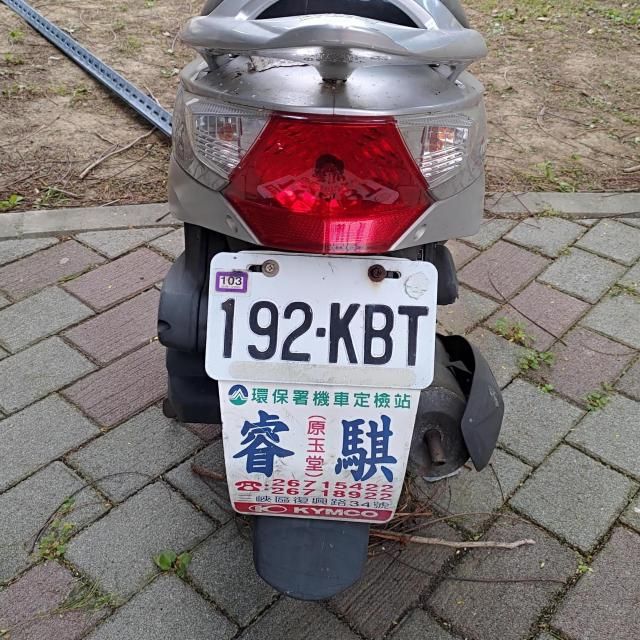W: (202, 248, 438, 384)
